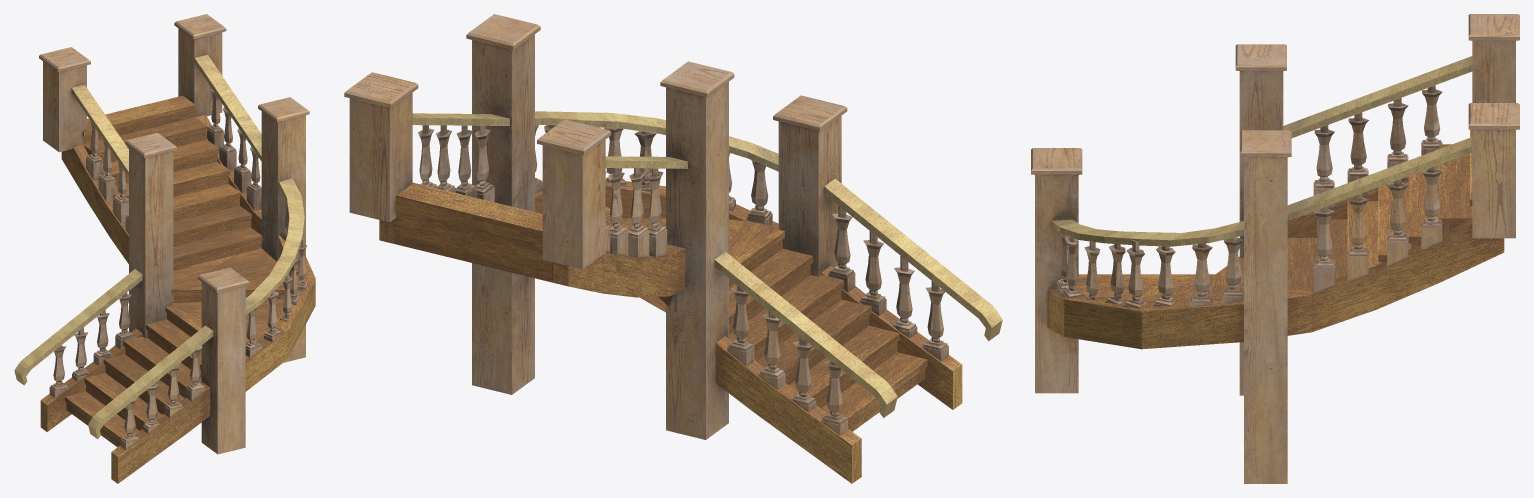
File: Model_Stair.fbx
3 renders of one model, left to right at view 1: azimuth 30°, elevation 25°; view 2: azimuth 150°, elevation 25°; view 3: azimuth 270°, elevation 25°, orthographic. The views are drawn at different scales.
Parts seen in each view (by area): view 1: escada; view 2: escada; view 3: escada.
Boxes of the visible parts, <box> form: escada: <box>14,14,315,483</box>; escada: <box>344,14,1002,483</box>; escada: <box>1031,14,1519,483</box>.
Size of the model in its own units: 5696 by 5335 by 6230.
